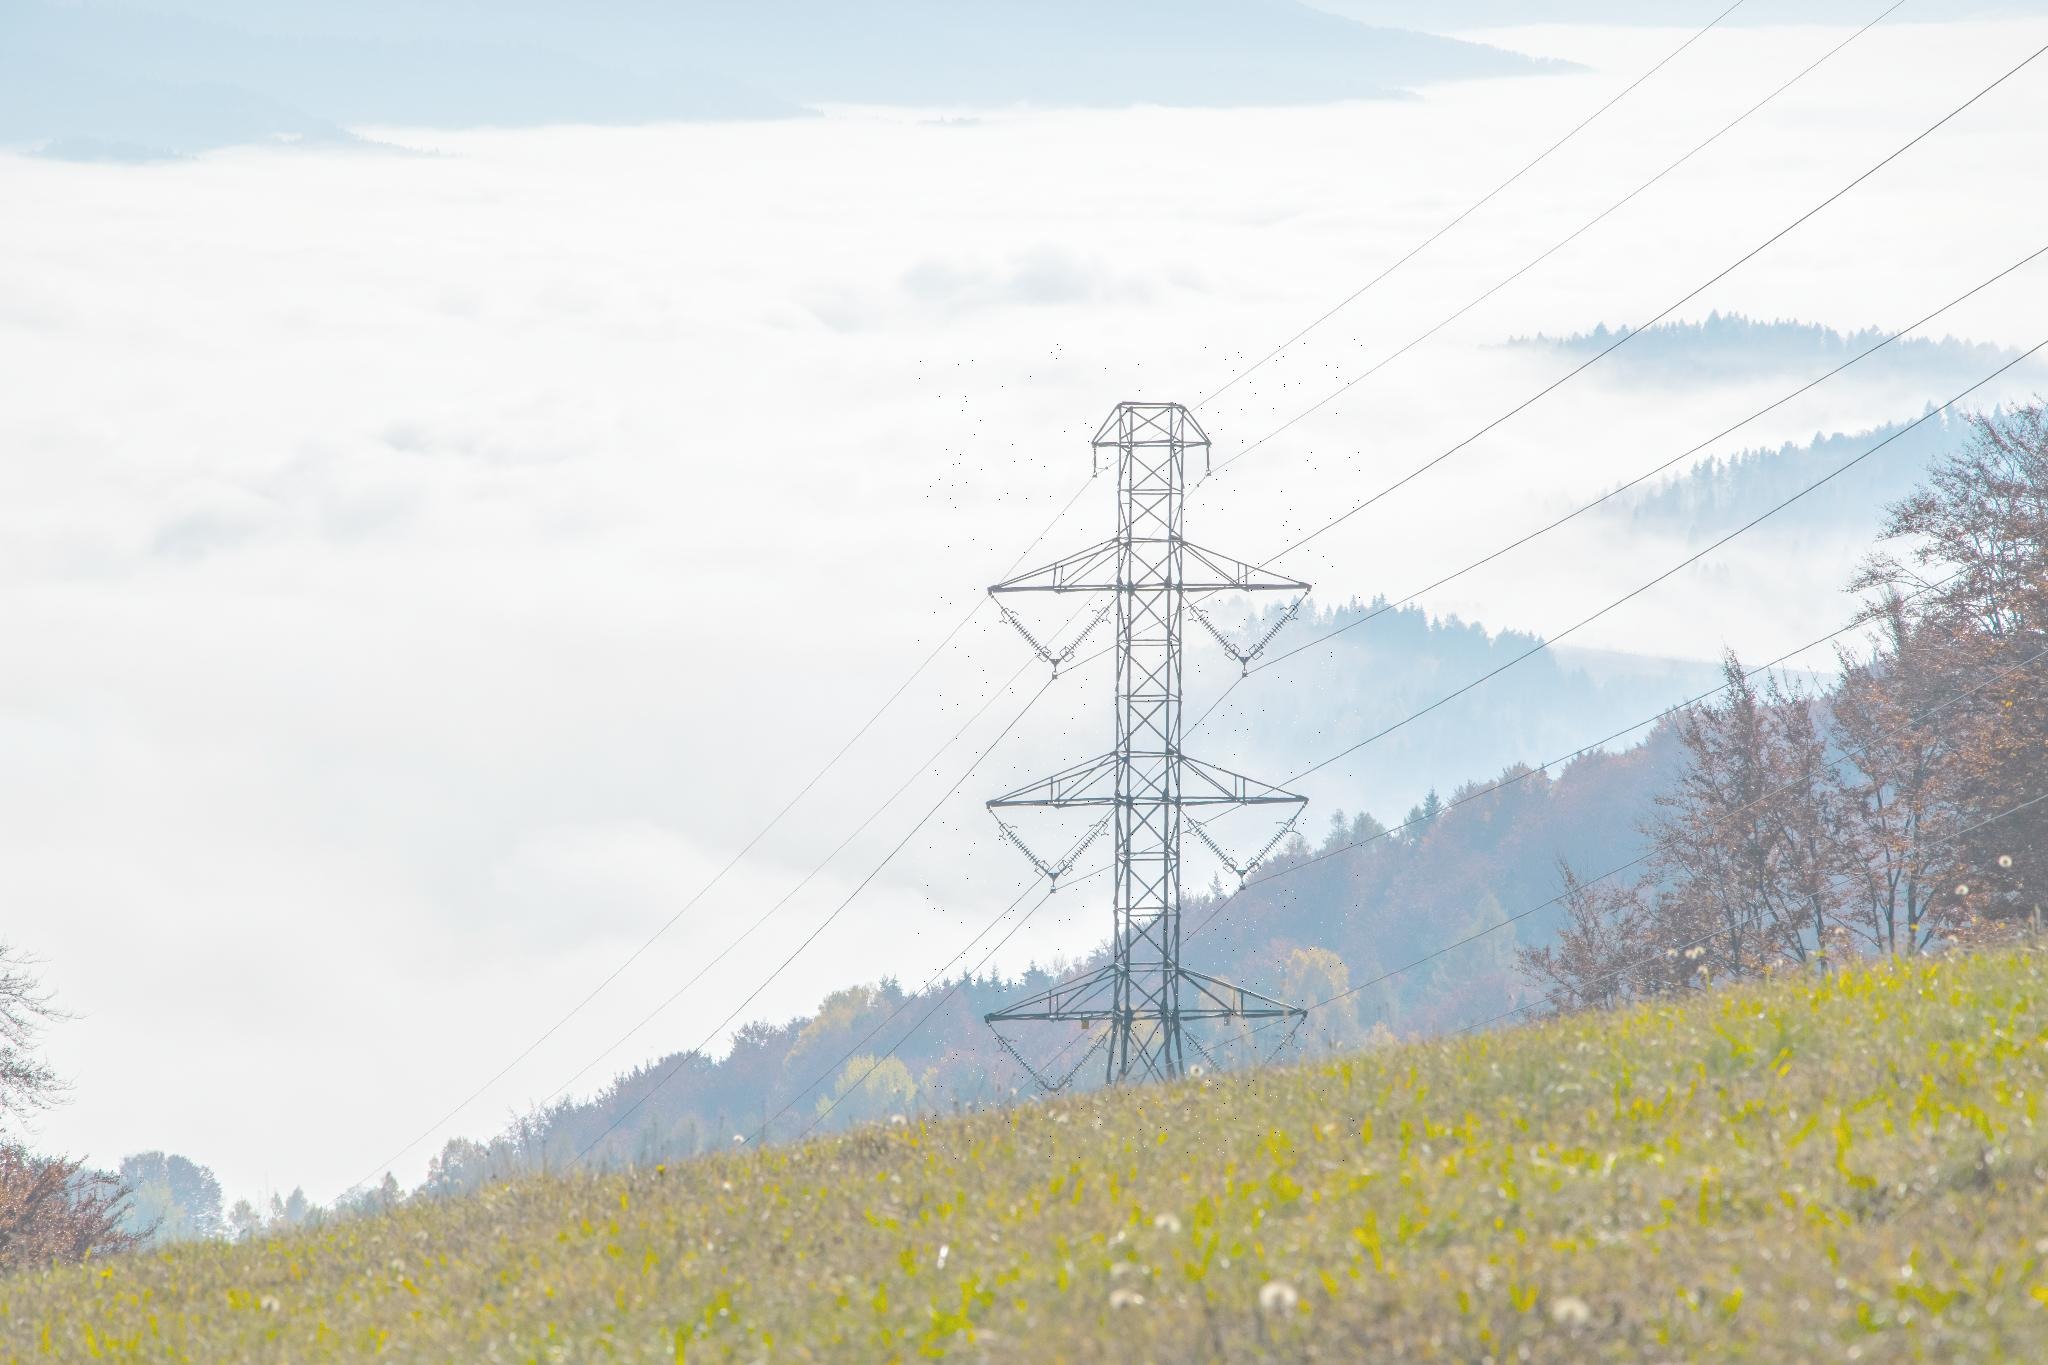cable tower: (918, 338, 1361, 1162)
